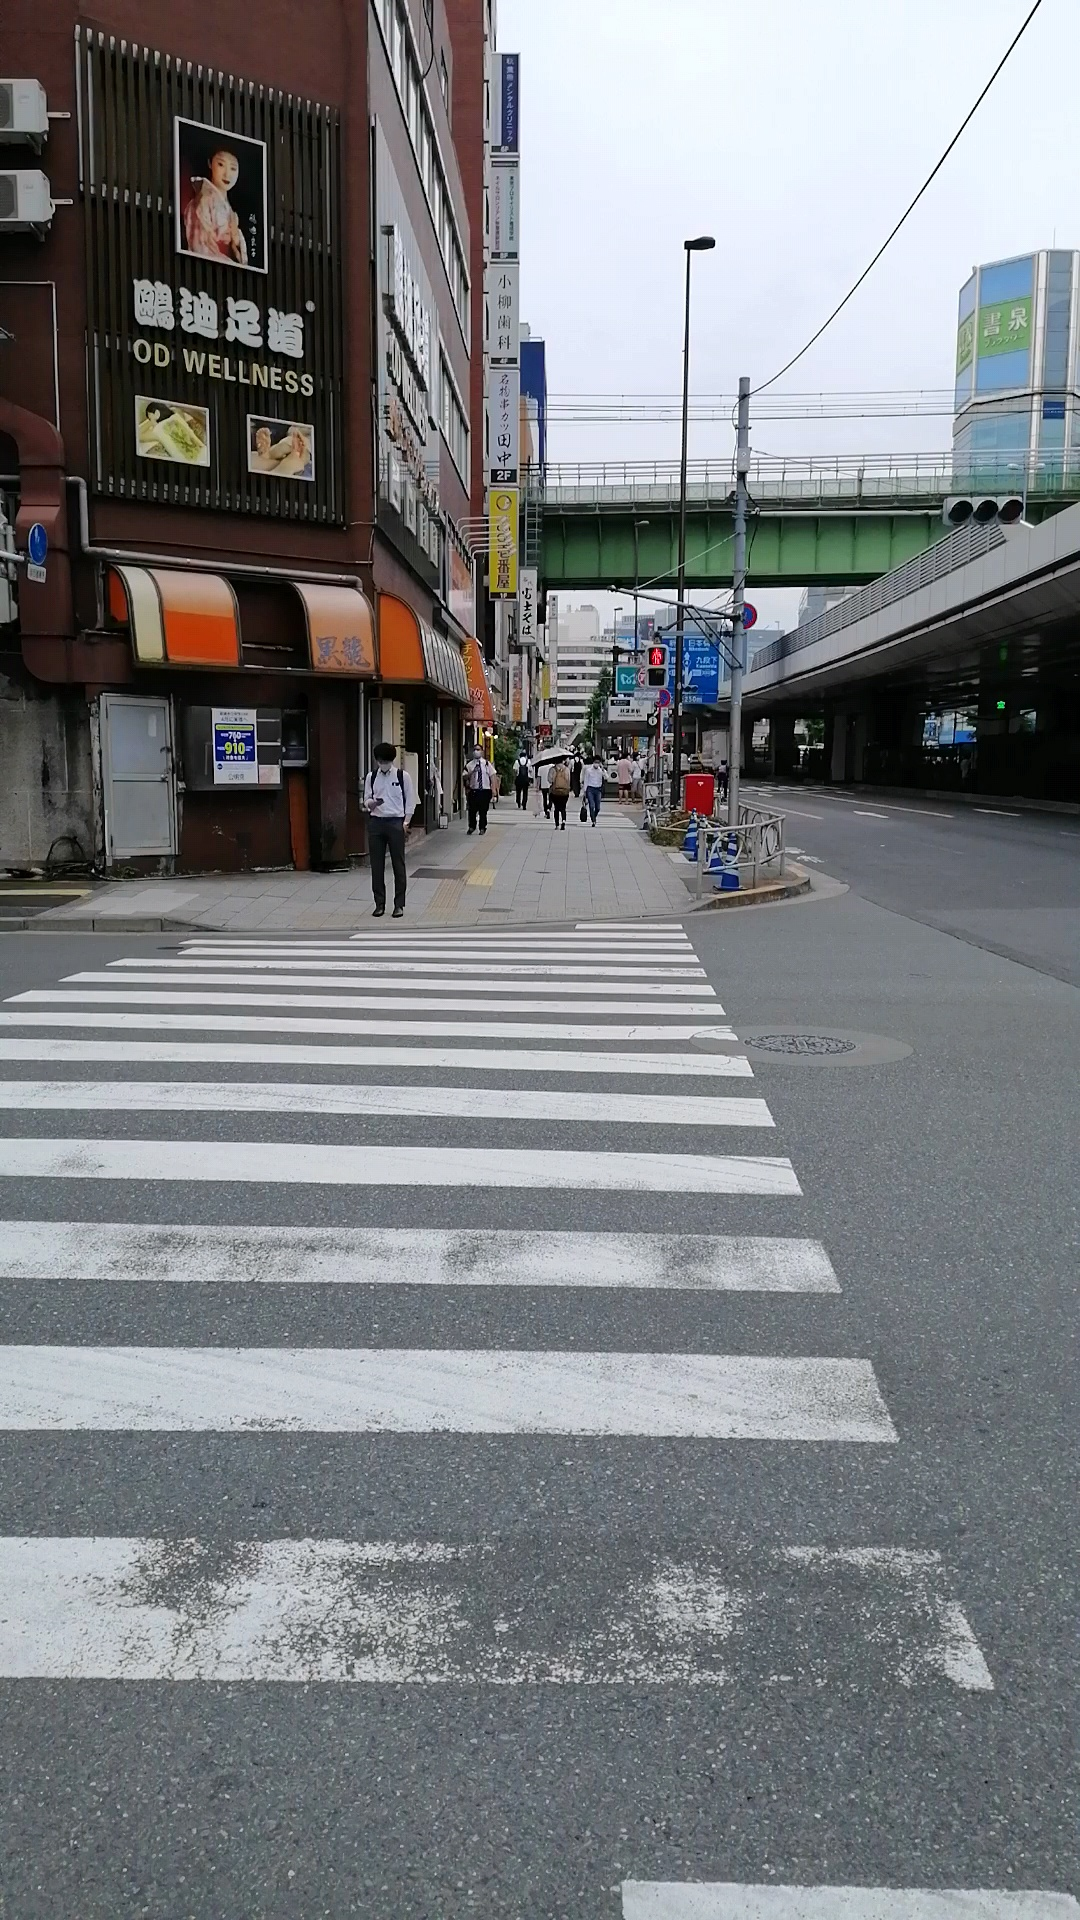red: (644, 644, 669, 688)
